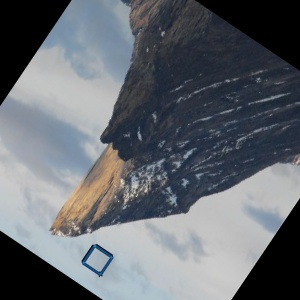square: (80, 241, 115, 277)
